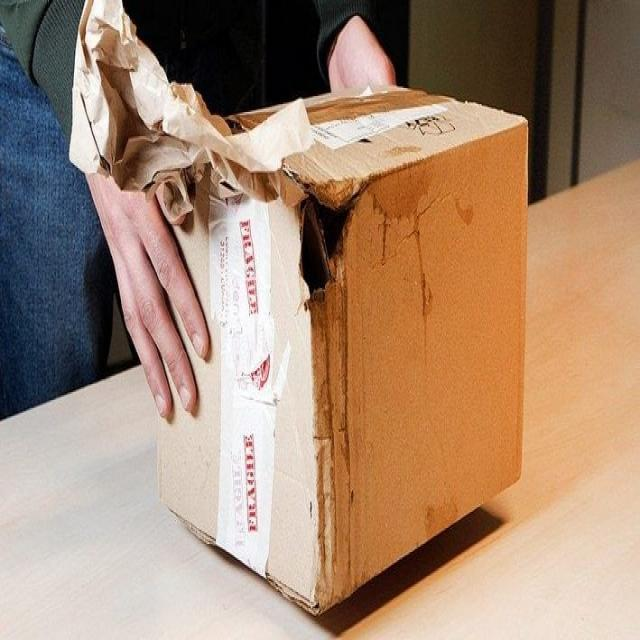hole: (287, 180, 359, 300)
